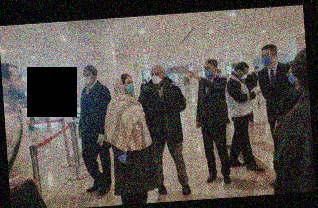with_mask: (260, 50, 274, 66), (287, 69, 299, 86), (202, 63, 215, 78), (150, 70, 163, 84), (82, 70, 94, 85), (124, 78, 135, 93), (239, 69, 250, 80)
without_mask: (10, 70, 27, 98)
